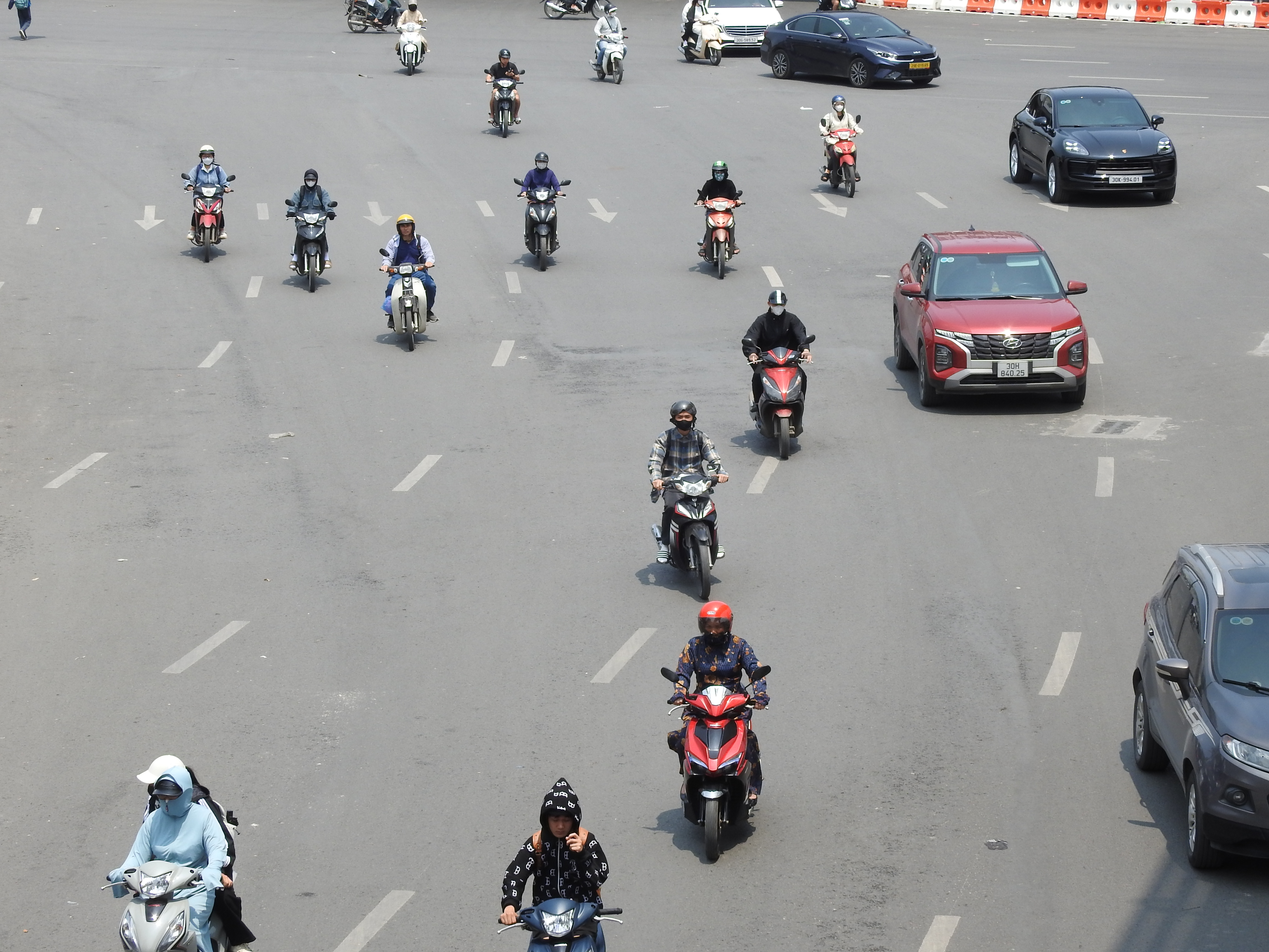car: (1127, 540, 1268, 869), (888, 229, 1092, 409), (1005, 83, 1178, 207), (760, 8, 941, 89), (680, 0, 787, 53)
motorbike: (109, 803, 257, 951), (664, 679, 767, 864), (108, 859, 257, 951), (648, 465, 725, 599), (748, 342, 810, 459), (498, 893, 613, 951), (376, 253, 437, 352), (512, 182, 570, 271), (380, 269, 436, 343), (285, 213, 335, 288), (521, 193, 561, 271), (183, 192, 227, 261), (818, 126, 860, 195), (484, 76, 524, 137), (679, 13, 725, 64), (345, 0, 410, 34), (588, 37, 627, 83), (395, 30, 428, 75)
